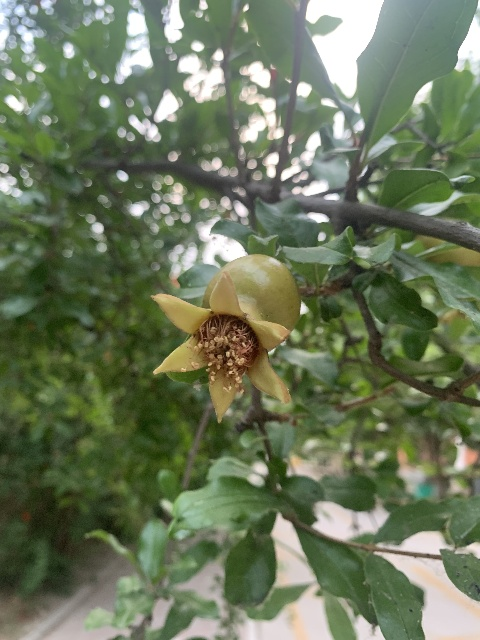mid-growth: (150, 253, 300, 425)
